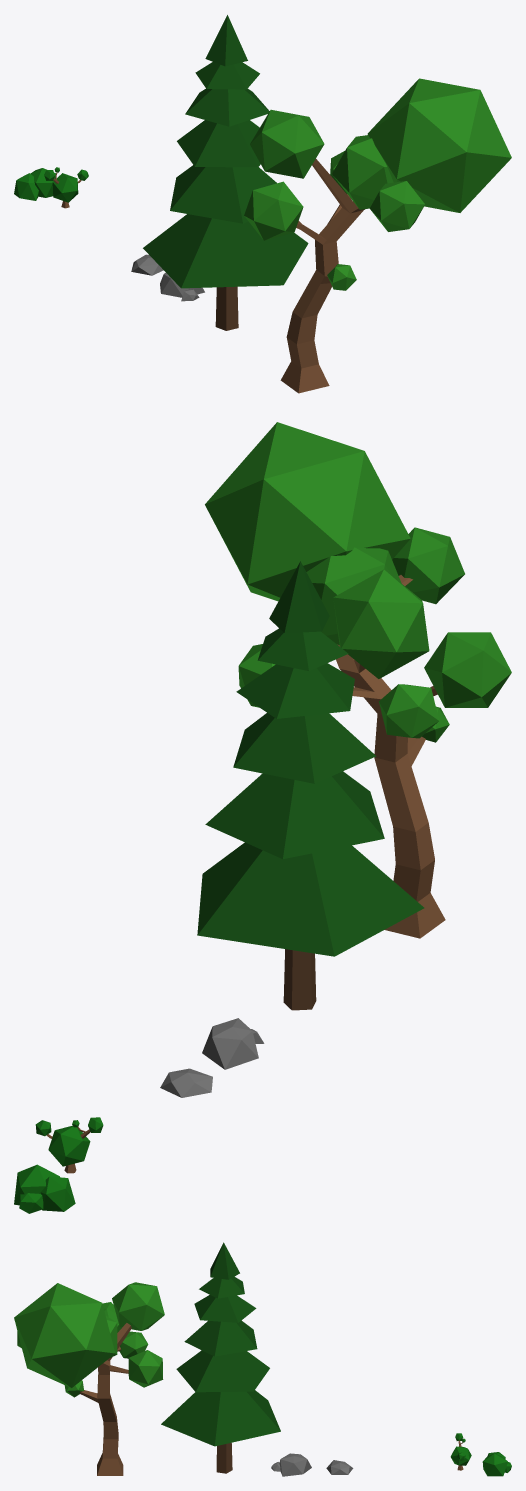
Rendered from MageHunter - Environment.fbx.
The picture shows the model from 3 angles, top to bottom: view 1: azimuth 30°, elevation 25°; view 2: azimuth 150°, elevation 25°; view 3: azimuth 270°, elevation 25°; orthographic projection. The views are drawn at different scales.
Parts seen in each view (by area): view 1: Tree_1, Tree_2, Bush_1, Bush_2, Rock_1, Rock_2; view 2: Tree_1, Tree_2, Bush_1, Rock_1, Bush_2, Rock_2; view 3: Tree_1, Tree_2, Rock_1, Bush_1, Bush_2, Rock_2.
Boxes of the visible parts, x1=… form: Tree_1: x1=244, y1=78, x2=511, y2=393; Tree_2: x1=143, y1=15, x2=308, y2=330; Bush_1: x1=14, y1=168, x2=55, y2=200; Bush_2: x1=44, y1=167, x2=88, y2=208; Rock_1: x1=160, y1=272, x2=204, y2=301; Rock_2: x1=131, y1=254, x2=163, y2=275; Tree_1: x1=205, y1=422, x2=511, y2=938; Tree_2: x1=197, y1=561, x2=424, y2=1010; Bush_1: x1=14, y1=1164, x2=75, y2=1213; Rock_1: x1=202, y1=1018, x2=264, y2=1069; Bush_2: x1=35, y1=1117, x2=103, y2=1173; Rock_2: x1=160, y1=1068, x2=212, y2=1097; Tree_1: x1=14, y1=1282, x2=164, y2=1475; Tree_2: x1=161, y1=1242, x2=280, y2=1473; Rock_1: x1=271, y1=1453, x2=311, y2=1476; Bush_1: x1=482, y1=1452, x2=511, y2=1476; Bush_2: x1=450, y1=1433, x2=471, y2=1470; Rock_2: x1=326, y1=1460, x2=353, y2=1474.
Bounding box in the file's own units: 1468 × 1938 × 3793.
